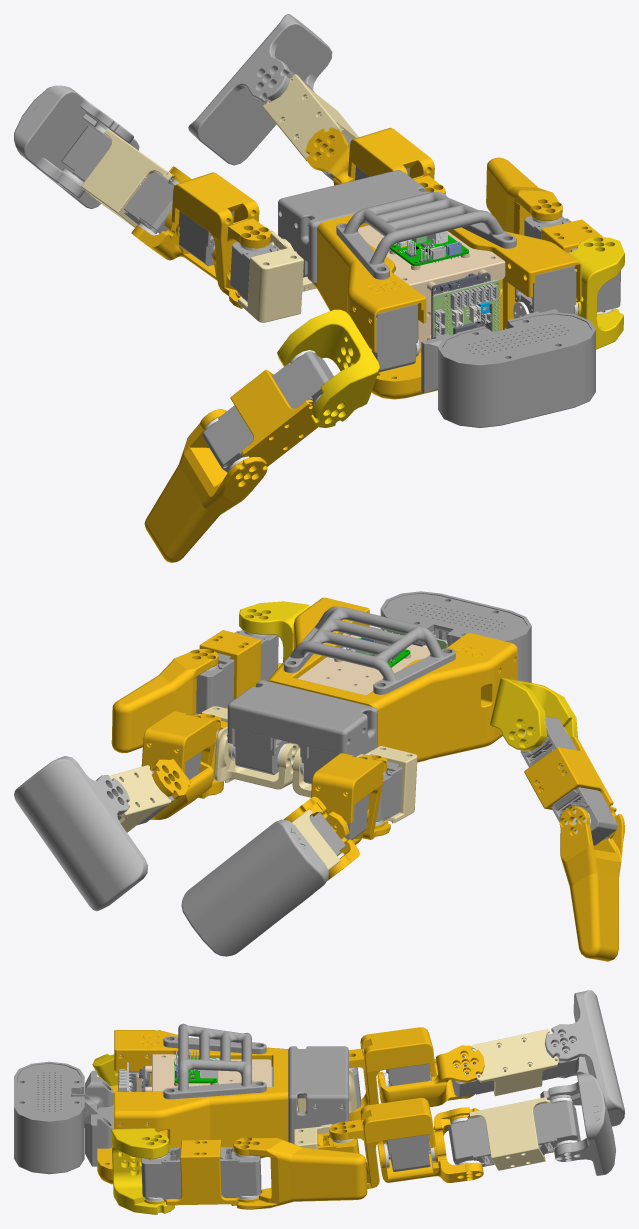
File: z001-opus-m-93de7567.glb
3 views of the same model, one above another, from view 1: azimuth 30°, elevation 25°; view 2: azimuth 150°, elevation 25°; view 3: azimuth 270°, elevation 25° (orthographic). The views are drawn at different scales.
Parts seen in each view (by area): view 1: Torso, Head, foot_left, right_hand, BackPack, right_shoulder_yaw, foot_right, hip_pitch_dual_carry, hip_roll_right, elbow_bracket_left, Neck Mount, hip_yaw_right (+22 smaller); view 2: Torso, foot_left, foot_right, hip_pitch_dual_carry, right_hand, BackPack, left_hand, Neck Mount, right_shoulder_yaw, hip_roll_right, hip_roll_left, elbow_bracket_left (+19 smaller); view 3: Torso, left_hand, hip_pitch_dual_carry, BackPack, foot_right, Head, hip_roll_left, ankle_pitch_right, foot_left, hip_roll_right, left_shoulder_yaw, ankle_pitch_left (+20 smaller).
Boxes of the visible parts, x1,y1,x2,y2 form: Torso: (312, 214, 581, 399); Head: (438, 312, 595, 427); foot_left: (188, 14, 332, 165); right_hand: (144, 409, 267, 562); BackPack: (336, 192, 516, 279); right_shoulder_yaw: (277, 309, 379, 427); foot_right: (14, 85, 139, 208); hip_pitch_dual_carry: (278, 170, 430, 283); hip_roll_right: (171, 172, 271, 308); elbow_bracket_left: (230, 369, 317, 466); Neck Mount: (442, 314, 591, 363); hip_yaw_right: (238, 230, 316, 322); Torso: (267, 597, 517, 762); foot_left: (14, 756, 147, 911); foot_right: (181, 819, 328, 956); hip_pitch_dual_carry: (227, 680, 377, 758); right_hand: (559, 806, 624, 961); BackPack: (283, 606, 455, 694); left_hand: (111, 649, 218, 753); Neck Mount: (385, 593, 527, 640); right_shoulder_yaw: (490, 678, 577, 750); hip_roll_right: (311, 753, 390, 839); hip_roll_left: (141, 711, 223, 798); elbow_bracket_left: (524, 737, 613, 809); Torso: (97, 1030, 288, 1184); left_hand: (231, 1137, 367, 1209); hip_pitch_dual_carry: (288, 1046, 348, 1143); BackPack: (163, 1023, 266, 1099); foot_right: (544, 990, 624, 1126); Head: (14, 1061, 84, 1174); hip_roll_left: (329, 1098, 435, 1188); ankle_pitch_right: (472, 1029, 558, 1096); foot_left: (540, 1073, 615, 1175); hip_roll_right: (349, 1027, 436, 1121); left_shoulder_yaw: (111, 1128, 174, 1214); ankle_pitch_left: (467, 1097, 550, 1170).
Bounding box in the file's own units: 0.3258 × 0.2103 × 0.4705.
